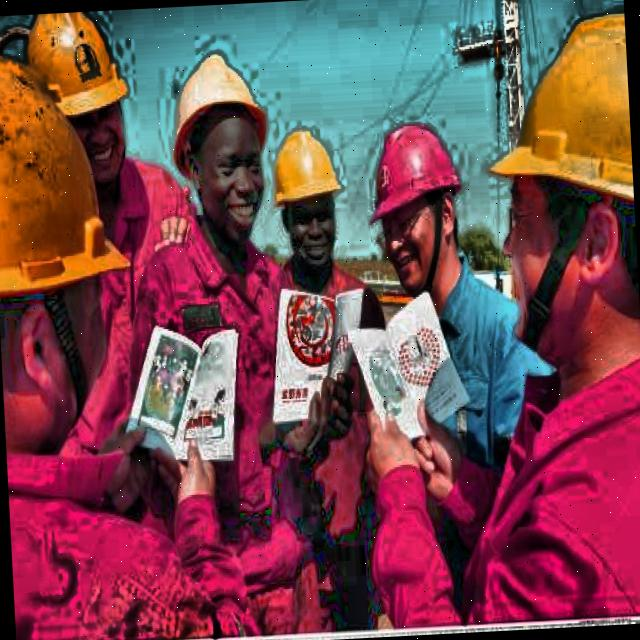helmet: (0, 43, 135, 480), (490, 18, 640, 346), (26, 12, 144, 206), (169, 49, 284, 244), (366, 110, 472, 303), (265, 120, 347, 270)
